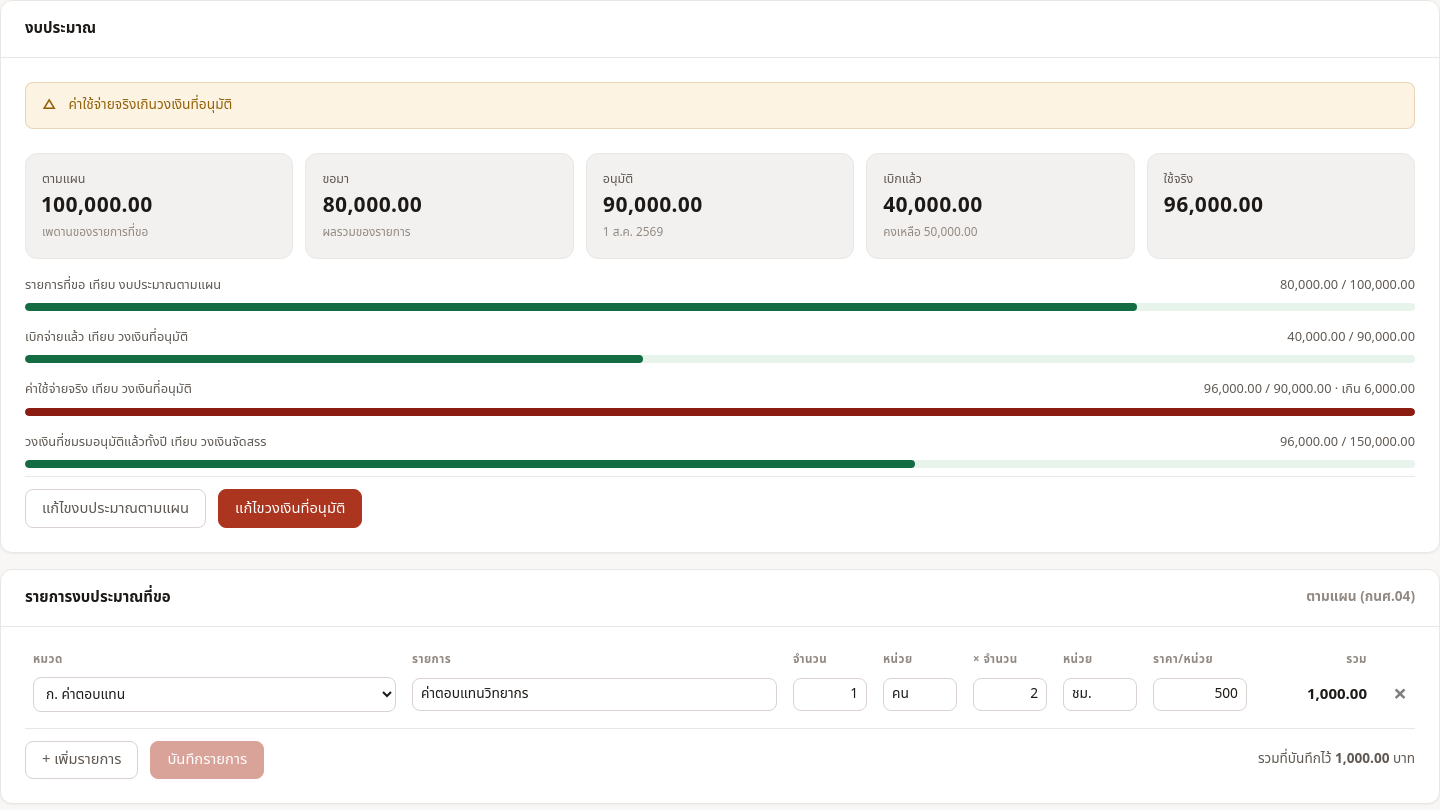
shows an unsaved line as a labelled preview, never the server's saved amount
Expected: the text "1,000.00" is shown, [1335,749,1389,769]
Replace the text in the 6th field showing "500" with "900" at (1200, 694), box [1153,678,1247,711]
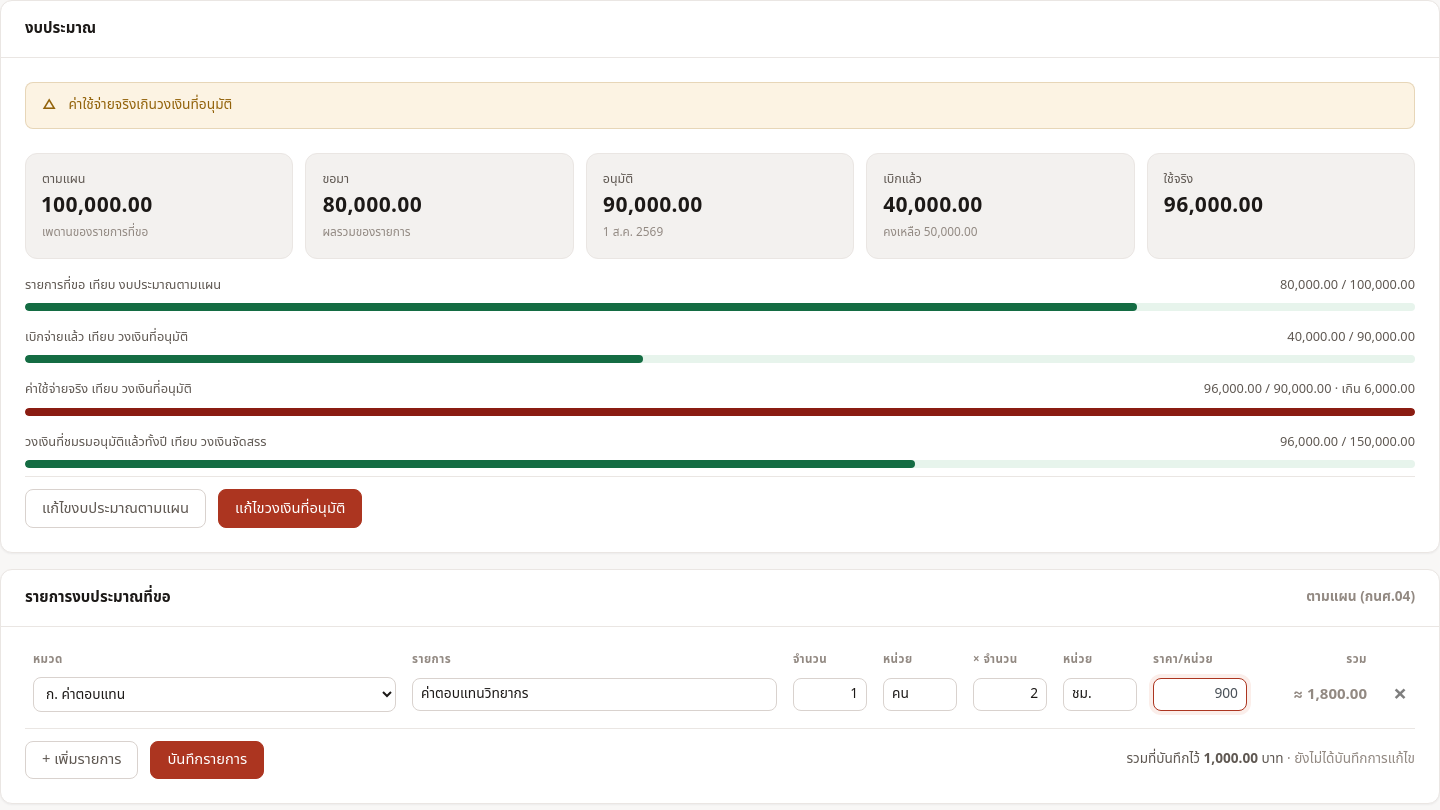
Expected: the text "ยังไม่ได้บันทึกการแก้ไข" is shown, [1284,749,1415,769]
Expected: the text "≈ 1,800.00" is shown, [1293,682,1367,706]
